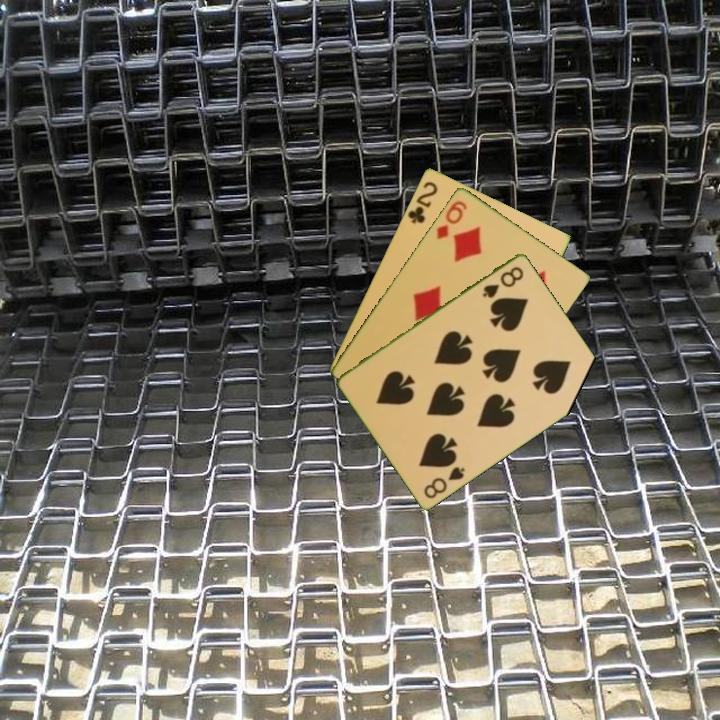2c: (404, 177, 440, 226)
6d: (432, 197, 470, 242)
8s: (479, 262, 527, 301), (420, 463, 468, 501)
